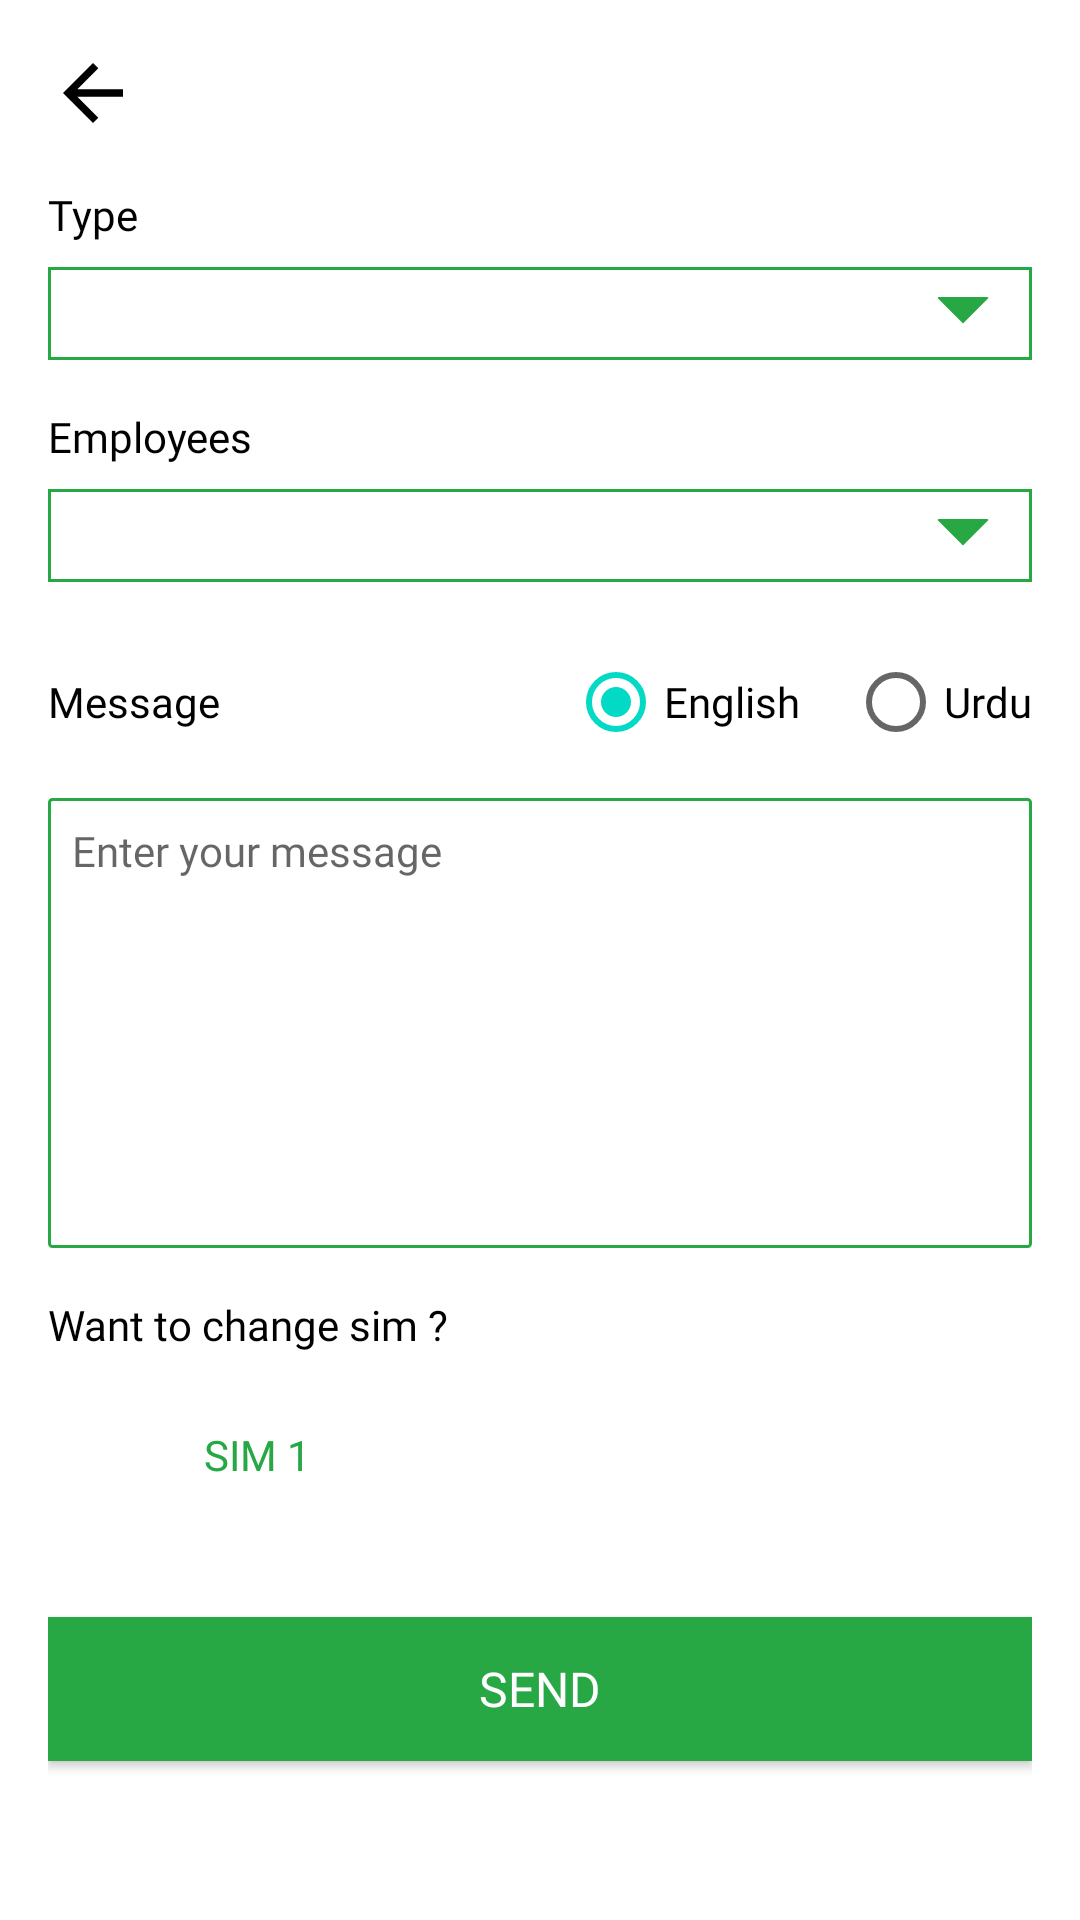

Screen size 1080x1920. Icon name, then its box in pixels as (x1, y1, x2, y2):
arrow back: (63, 63, 123, 123)
